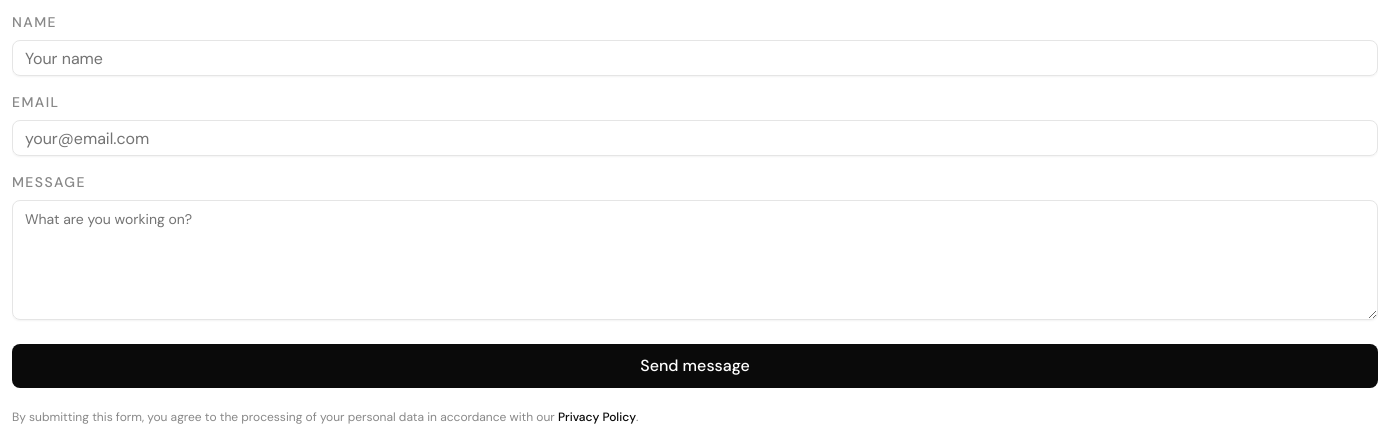
it: ContactForm › shows success message after valid submission
In the field with placeholder "Your name": (695, 58) [12, 40, 1378, 76], type "Keighley"
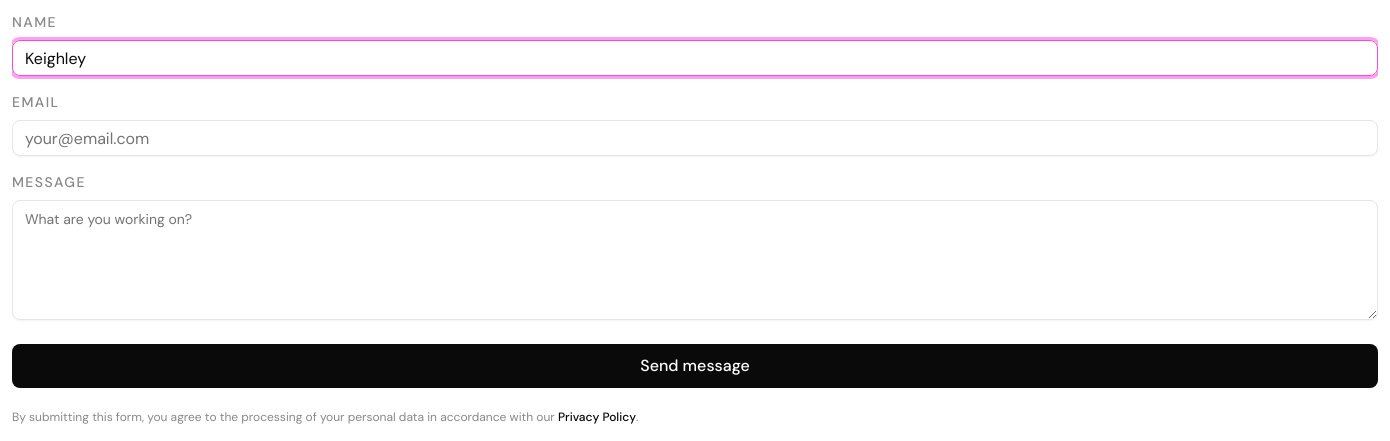
In the field with placeholder "your@email.com": (695, 138) [12, 120, 1378, 156], type "test@example.com"
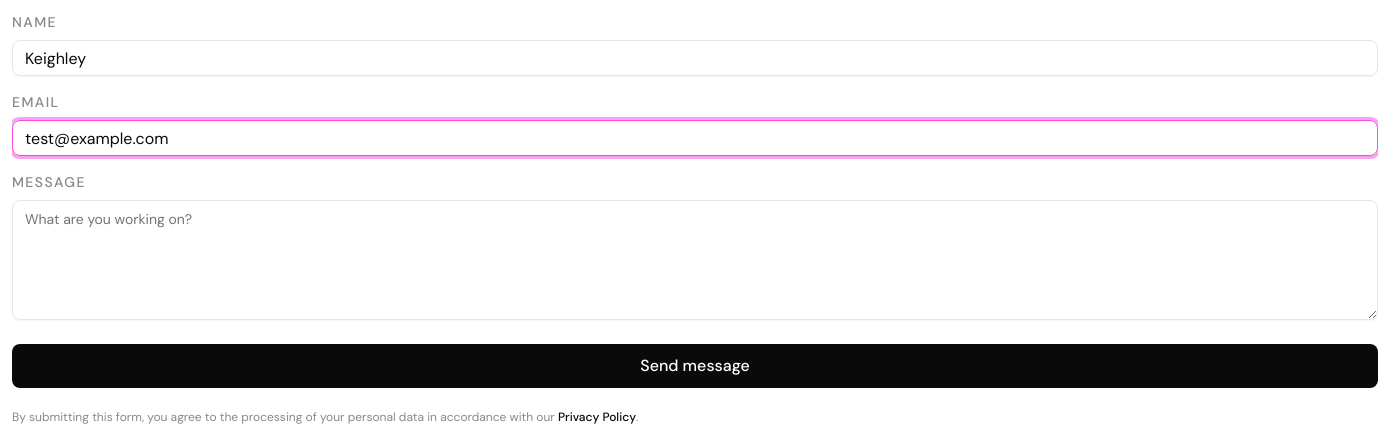
In the text box with placeholder "What are you working on?": (695, 260) [12, 200, 1378, 320], type "Hello there this is a message"
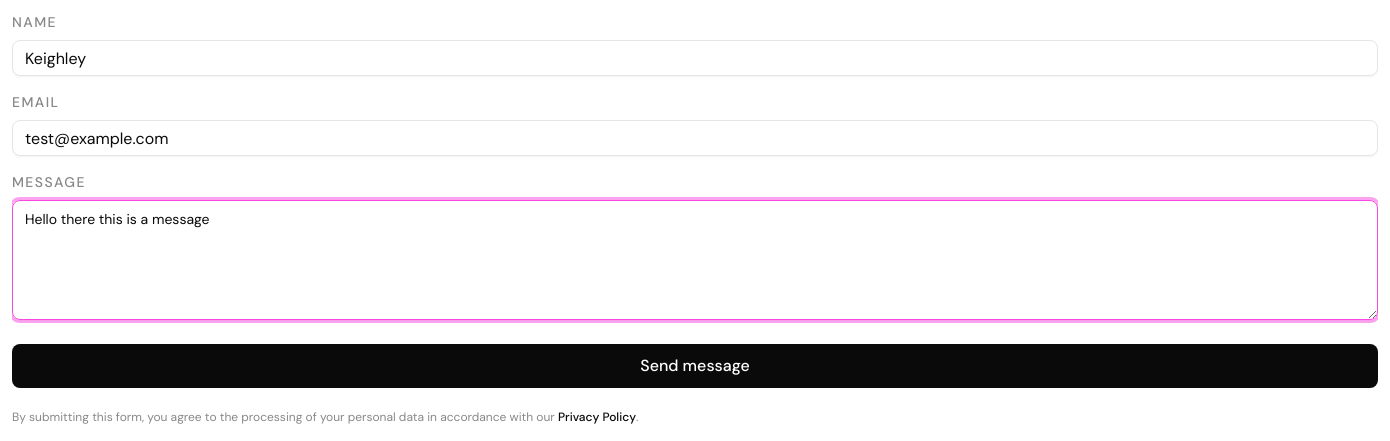
Click the button "Send message": (695, 366) [12, 344, 1378, 388]
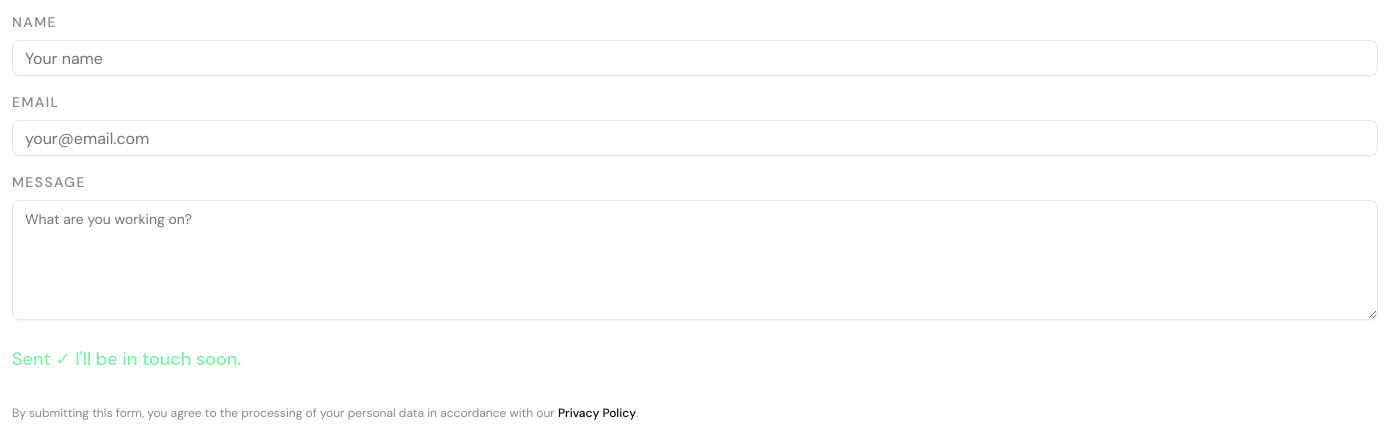
Expected: the text "Sent ✓ I'll be in touch soon." is shown, [12, 347, 241, 371]
